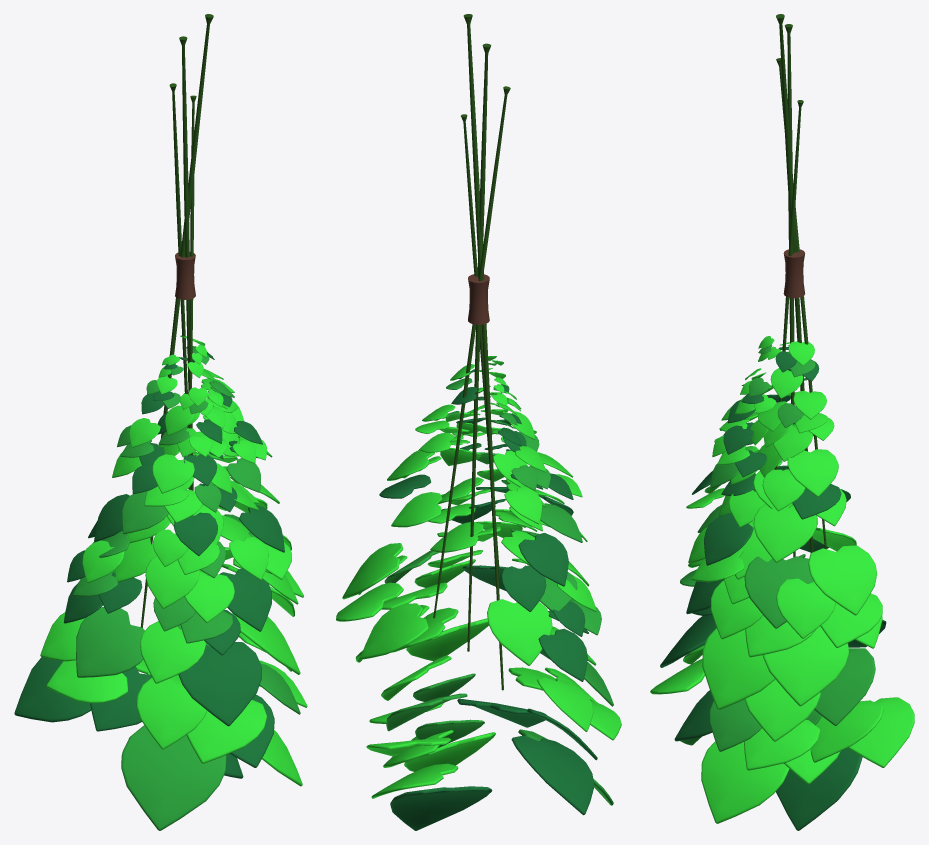
Rendered from Item_Grass.fbx.
3 views of the same model, side by side, from view 1: azimuth 30°, elevation 25°; view 2: azimuth 150°, elevation 25°; view 3: azimuth 270°, elevation 25° (orthographic). The views are drawn at different scales.
Parts seen in each view (by area): view 1: Cylinder.026; view 2: Cylinder.026; view 3: Cylinder.026.
Part boxes in pixels (x1,y1,x2,y2): Cylinder.026: (14, 14, 307, 830); Cylinder.026: (336, 14, 621, 830); Cylinder.026: (650, 14, 914, 830).
Size of the model in its own units: 214 by 639 by 193.
